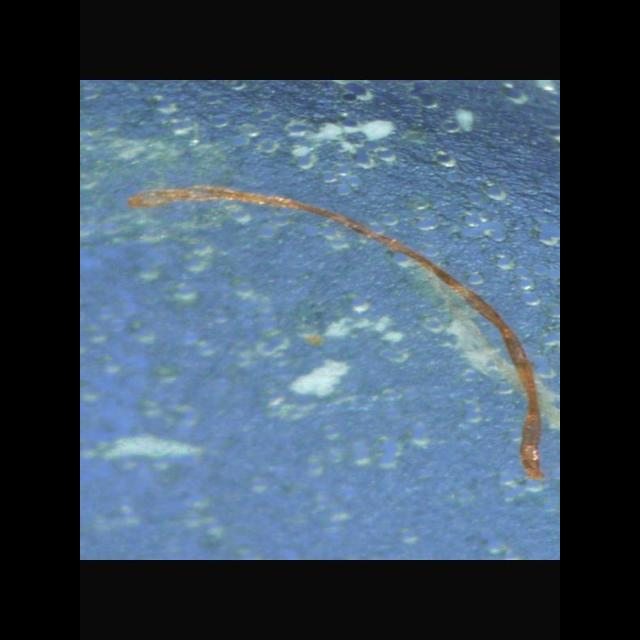Fibre: (102, 177, 556, 486)
